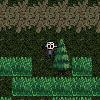Jason: (41, 41, 58, 60)
Obstacle: (53, 57, 72, 76)
Slow: (12, 77, 100, 96), (0, 57, 32, 76), (72, 57, 92, 76)
